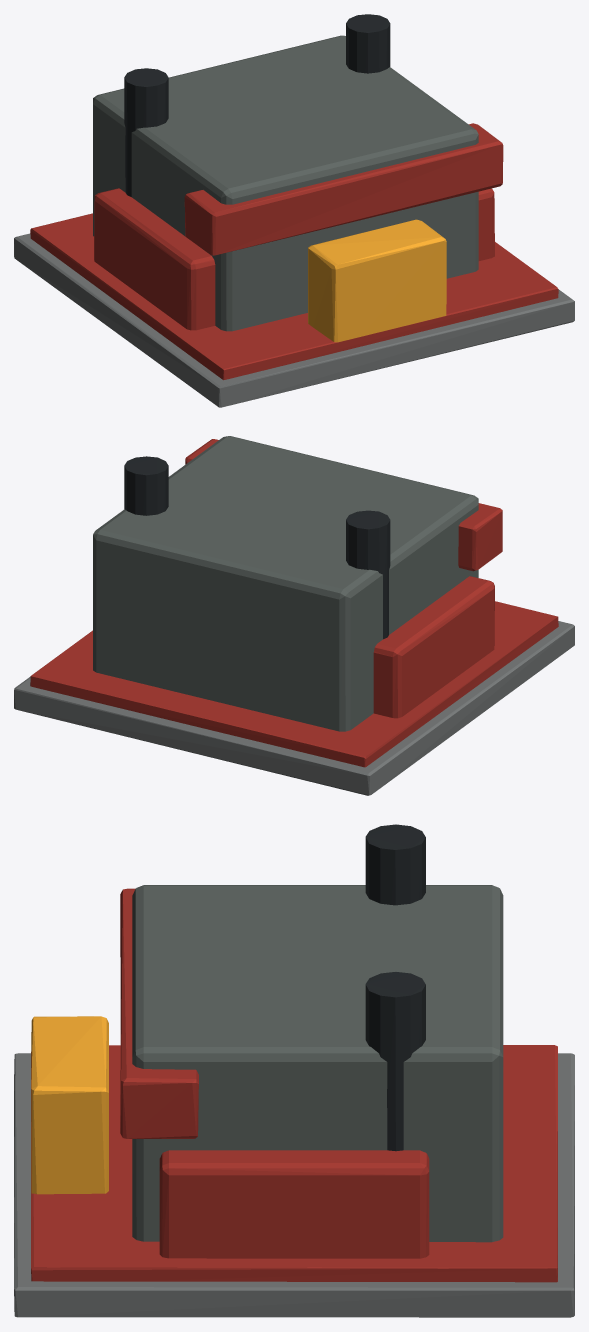
Rendered from SM_Soviet_SU_Barracks_LOD1.fbx.
3 renders of one model, top to bottom at view 1: azimuth 30°, elevation 25°; view 2: azimuth 150°, elevation 25°; view 3: azimuth 270°, elevation 25°, orthographic. The views are drawn at different scales.
Visible parts, largest first — view 1: LOD01_SM_Soviet_SU_Barracks; view 2: LOD01_SM_Soviet_SU_Barracks; view 3: LOD01_SM_Soviet_SU_Barracks.
Part boxes in pixels (x1=…): LOD01_SM_Soviet_SU_Barracks: x1=14, y1=14, x2=574, y2=407; LOD01_SM_Soviet_SU_Barracks: x1=14, y1=436, x2=574, y2=795; LOD01_SM_Soviet_SU_Barracks: x1=14, y1=824, x2=574, y2=1317.
Size of the model in its own units: 599 by 599 by 342.
